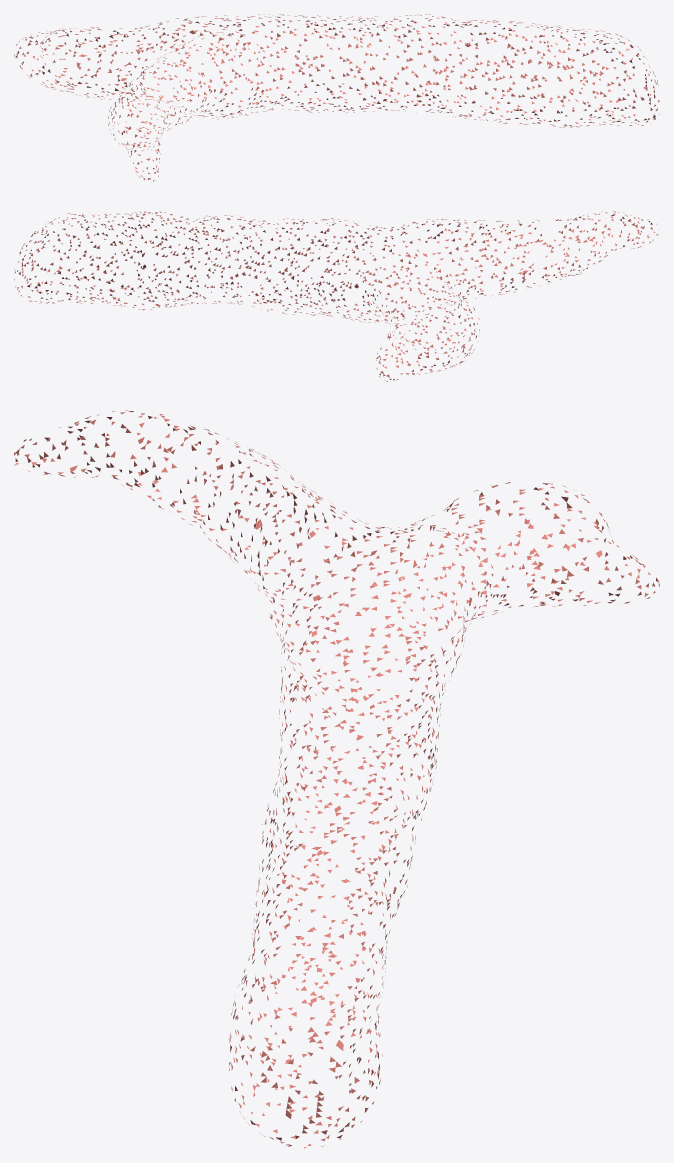
File: morph_001.glb
3 views of the same model, one above another, from view 1: azimuth 30°, elevation 25°; view 2: azimuth 150°, elevation 25°; view 3: azimuth 270°, elevation 25° (orthographic). The views are drawn at different scales.
Size of the model in its own units: 122 by 37.25 by 71.35.
